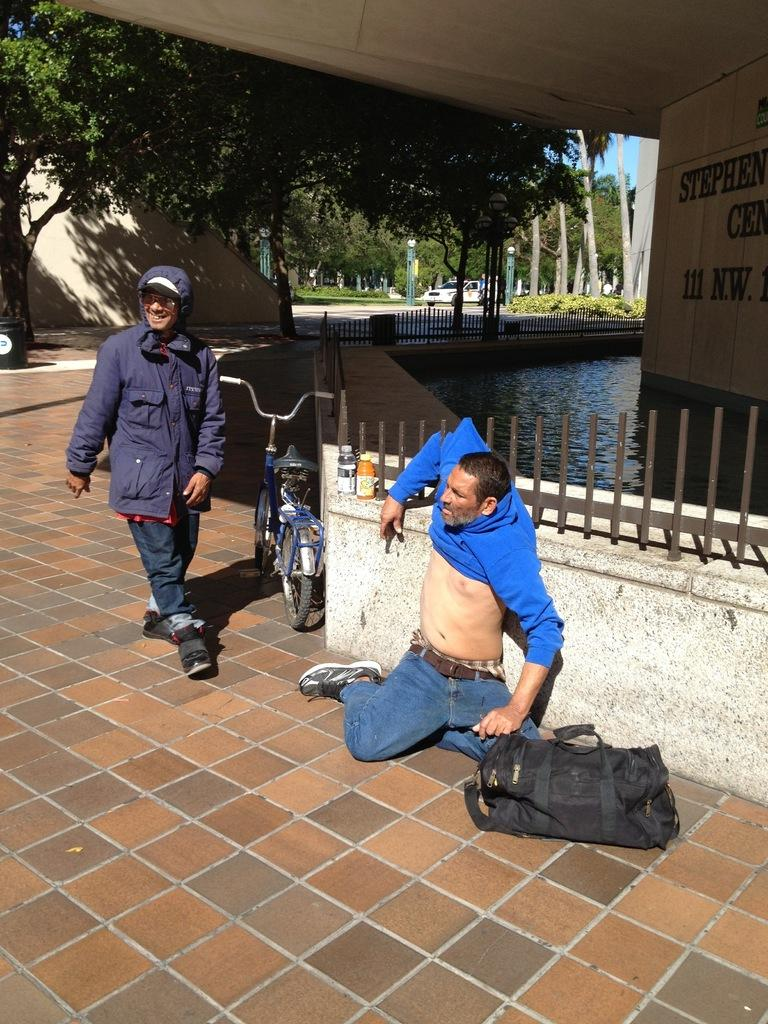Luggage-and-bags: (463, 725, 676, 844)
